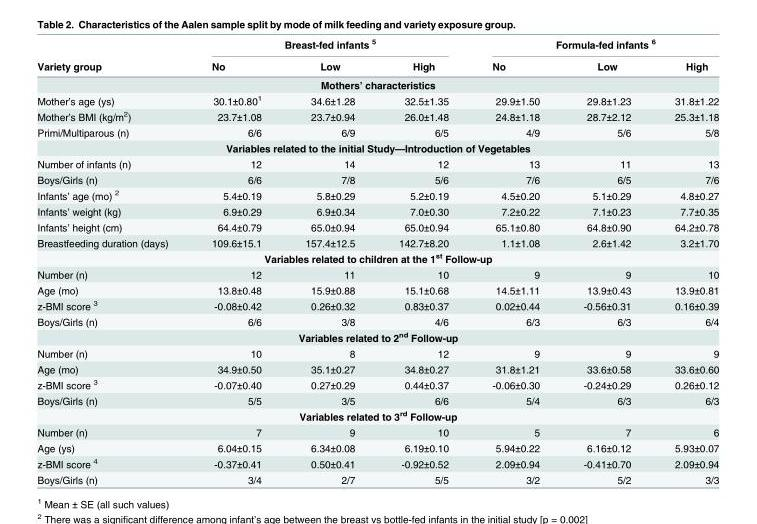table: (36, 36, 718, 485)
table column: (36, 36, 189, 485), (282, 36, 376, 485), (189, 36, 282, 485), (376, 36, 469, 485), (560, 36, 652, 485), (469, 36, 560, 485), (652, 36, 718, 485)
table column header: (36, 36, 718, 75)
table projected row header: (36, 249, 718, 266), (36, 328, 718, 345), (36, 407, 718, 424), (36, 75, 718, 91), (36, 139, 718, 155)
table row: (36, 54, 718, 75), (36, 36, 718, 54), (36, 107, 718, 124), (36, 186, 718, 203), (36, 249, 718, 266), (36, 328, 718, 345), (36, 407, 718, 424), (36, 454, 718, 471), (36, 75, 718, 91), (36, 91, 718, 107), (36, 139, 718, 155), (36, 155, 718, 171), (36, 218, 718, 234), (36, 266, 718, 282), (36, 297, 718, 313), (36, 360, 718, 376), (36, 376, 718, 392), (36, 124, 718, 139), (36, 171, 718, 186), (36, 203, 718, 218), (36, 234, 718, 249), (36, 282, 718, 297), (36, 313, 718, 328), (36, 345, 718, 360), (36, 392, 718, 407), (36, 424, 718, 439), (36, 439, 718, 454), (36, 471, 718, 485)
table spanning cell: (36, 36, 189, 75), (189, 36, 469, 54), (469, 36, 718, 54)
